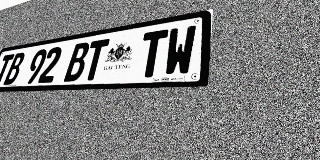2: (38, 46, 63, 83)
9: (24, 48, 49, 84)
B: (63, 42, 91, 82), (3, 52, 26, 85)
T: (136, 29, 168, 78), (81, 39, 110, 81), (0, 54, 15, 85)
W: (163, 25, 197, 77)
